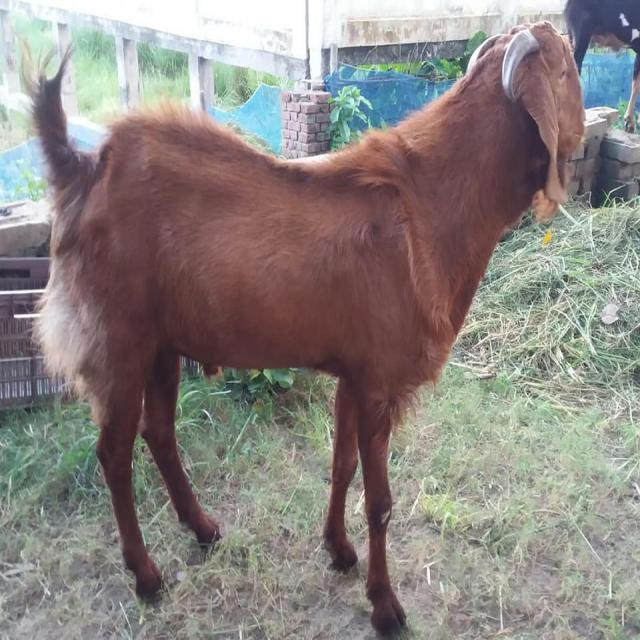Goat: (19, 19, 586, 638), (562, 0, 639, 134)
